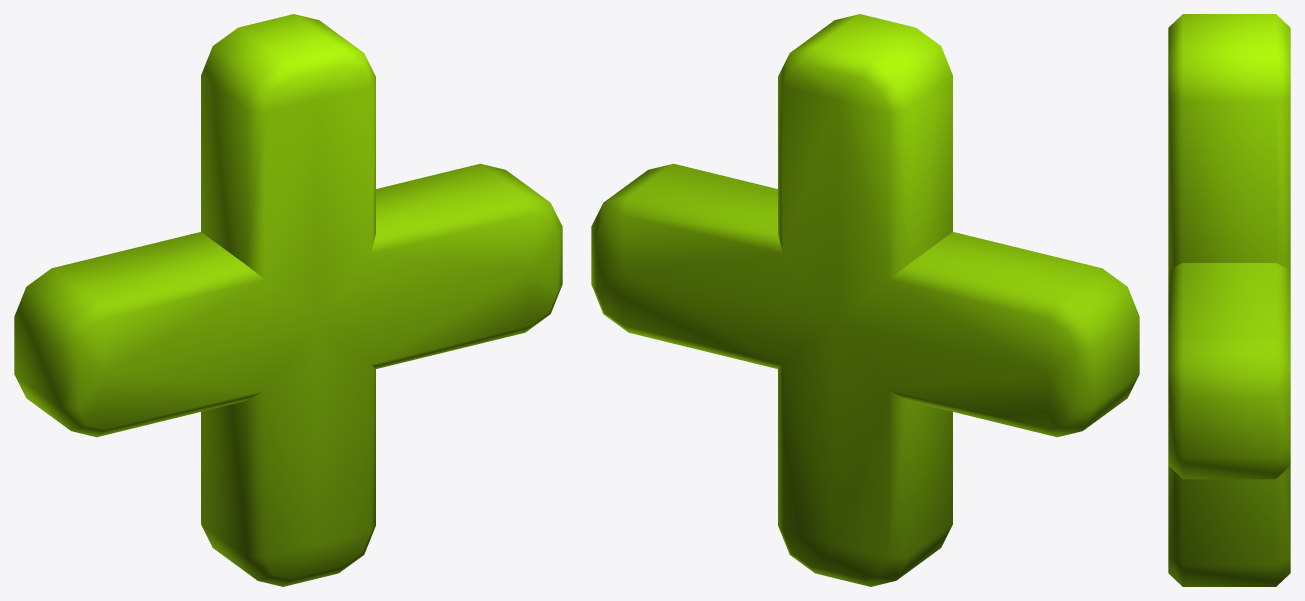
File: Collectable_Plus_01.fbx
3 views of the same model, side by side, from view 1: azimuth 30°, elevation 25°; view 2: azimuth 150°, elevation 25°; view 3: azimuth 270°, elevation 25° (orthographic). The views are drawn at different scales.
Parts seen in each view (by area): view 1: Collectable_Plus_01; view 2: Collectable_Plus_01; view 3: Collectable_Plus_01.
Boxes of the visible parts, x1,y1,x2,y2 form: Collectable_Plus_01: (14,14,562,586); Collectable_Plus_01: (591,14,1139,586); Collectable_Plus_01: (1168,14,1290,586).
Bounding box in the file's own units: 71.09 × 71.09 × 14.49.
